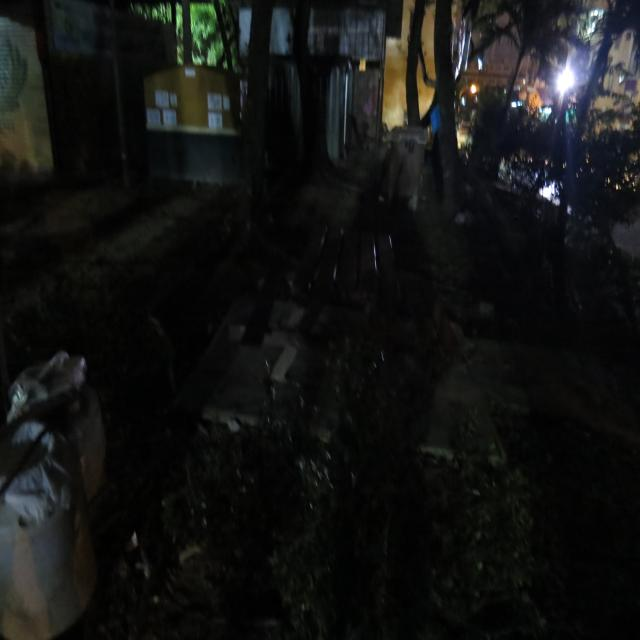Table: (291, 203, 421, 339)
